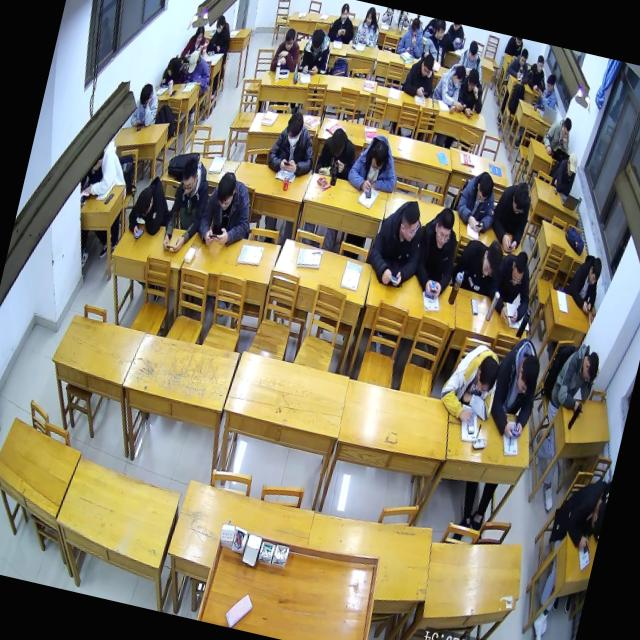bow: (483, 332, 548, 441), (434, 336, 504, 429), (195, 168, 259, 252), (548, 472, 610, 554), (345, 130, 404, 197), (124, 172, 175, 242), (430, 59, 466, 115), (161, 54, 188, 86)
down: (487, 248, 539, 324), (486, 176, 536, 252), (514, 352, 542, 394), (474, 355, 501, 395), (480, 238, 504, 277), (213, 172, 237, 210), (177, 157, 199, 195), (579, 349, 602, 384), (586, 498, 606, 538), (508, 250, 529, 288), (509, 180, 531, 216), (284, 112, 306, 146), (134, 186, 156, 217), (473, 172, 494, 204), (368, 140, 389, 172), (328, 127, 347, 157), (586, 257, 604, 286), (418, 52, 434, 78), (138, 82, 154, 108), (564, 152, 580, 176), (558, 115, 574, 138), (465, 68, 480, 92), (310, 28, 325, 51), (282, 27, 296, 50), (186, 51, 200, 72), (466, 41, 479, 62), (165, 56, 178, 76), (409, 15, 421, 36), (544, 72, 556, 92), (214, 15, 226, 34), (518, 48, 528, 66)
lookup: (431, 207, 456, 250), (364, 6, 377, 25), (339, 2, 350, 20), (534, 54, 544, 72)
sit: (364, 194, 429, 290), (160, 154, 216, 256), (409, 204, 465, 300), (548, 338, 604, 413), (265, 108, 322, 178), (450, 232, 504, 296), (453, 167, 502, 234), (86, 142, 134, 202), (314, 125, 360, 181), (566, 250, 606, 313), (454, 66, 490, 120), (298, 26, 334, 77), (402, 50, 439, 99), (269, 24, 304, 74), (540, 112, 576, 157), (396, 12, 430, 58), (130, 80, 162, 128), (421, 18, 452, 66), (326, 1, 359, 46), (180, 50, 213, 95), (550, 150, 580, 197), (353, 5, 383, 47), (205, 14, 234, 56), (534, 70, 562, 110), (506, 46, 534, 85), (182, 22, 210, 59), (525, 53, 551, 92), (456, 40, 486, 72)
